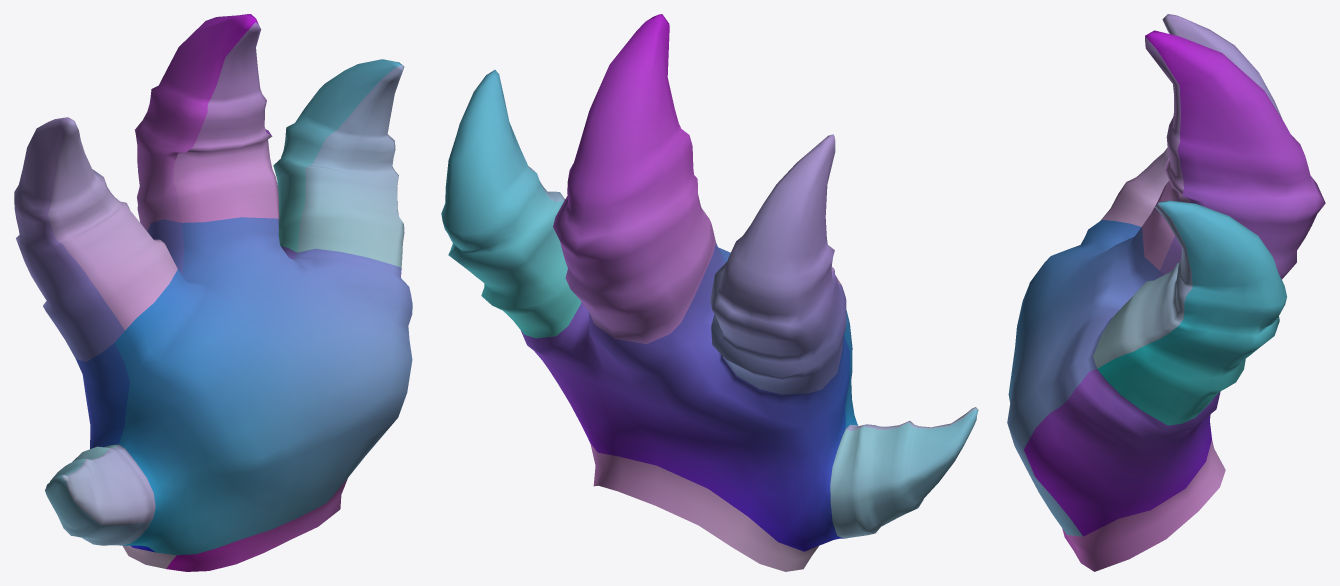
3 views of the same model, side by side, from view 1: azimuth 30°, elevation 25°; view 2: azimuth 150°, elevation 25°; view 3: azimuth 270°, elevation 25° (orthographic). The views are drawn at different scales.
Parts seen in each view (by area): view 1: SM_VFX_Cloud_LOD0; view 2: SM_VFX_Cloud_LOD0; view 3: SM_VFX_Cloud_LOD0.
Part boxes in pixels (left/top/right/bottom): SM_VFX_Cloud_LOD0: left=14, top=14, right=412, bottom=571; SM_VFX_Cloud_LOD0: left=441, top=14, right=978, bottom=571; SM_VFX_Cloud_LOD0: left=1007, top=14, right=1325, bottom=571.
Size of the model in its own units: 0.7639 by 0.9033 by 0.4937.
